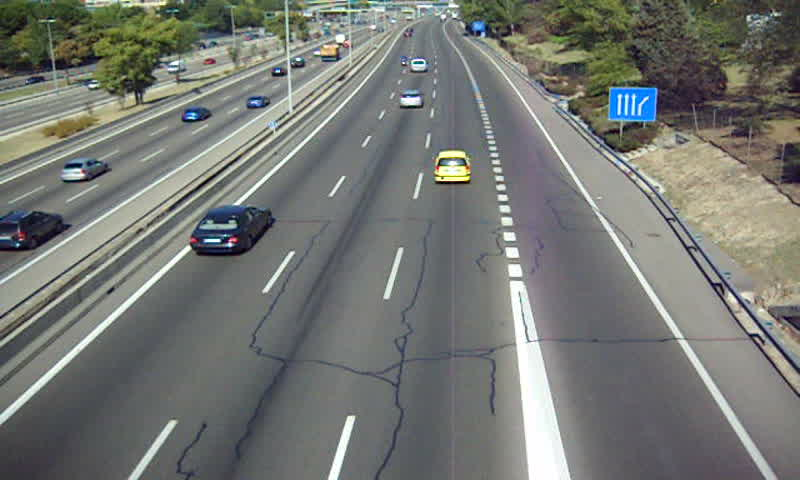car: (186, 208, 272, 257), (432, 150, 472, 184), (400, 89, 423, 109), (410, 58, 428, 74)
